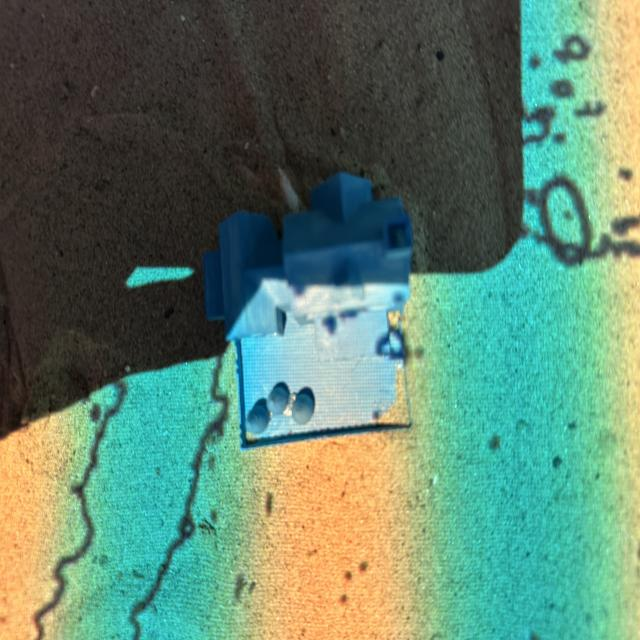house: (202, 169, 415, 449)
